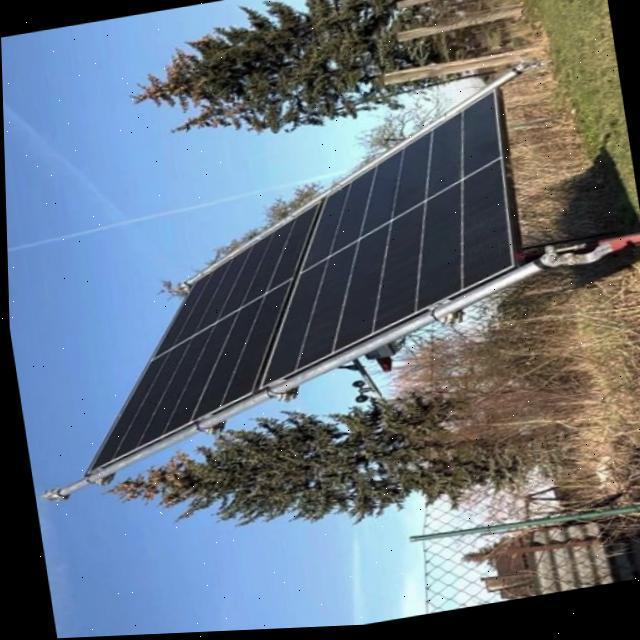Normal Solar Panel: (34, 90, 540, 476)
